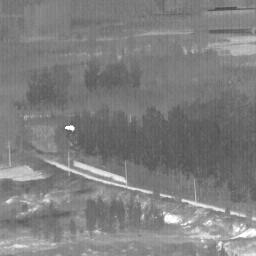Target: (64, 123, 76, 132)
